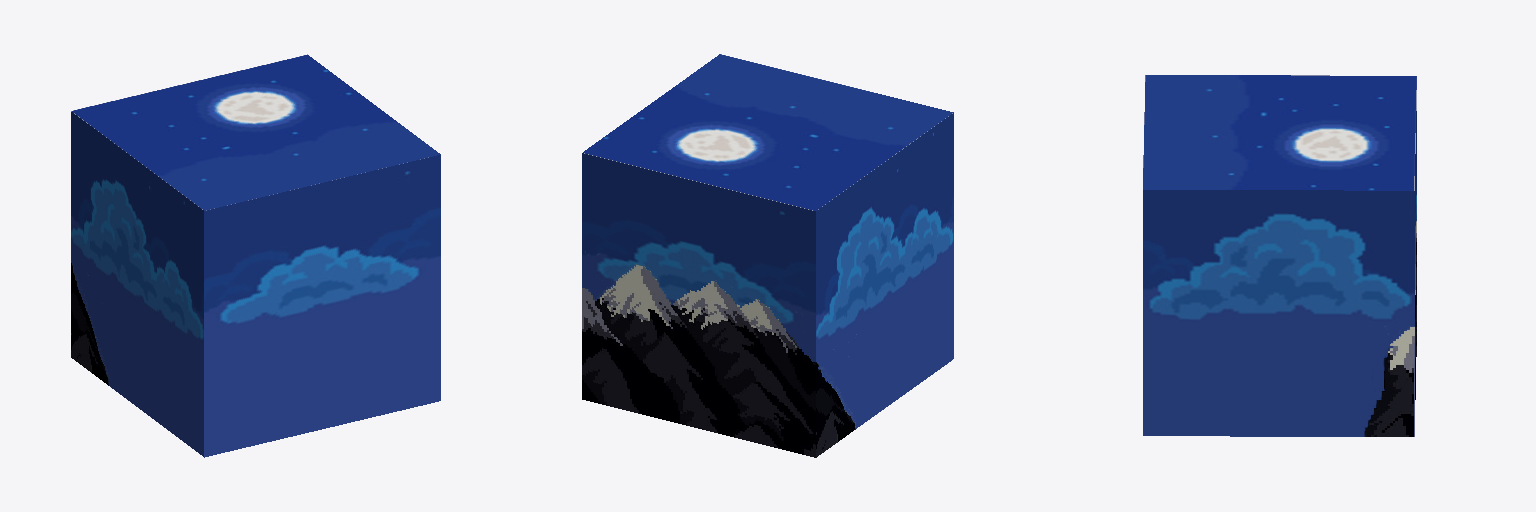
3 renders of one model, left to right at view 1: azimuth 30°, elevation 25°; view 2: azimuth 150°, elevation 25°; view 3: azimuth 270°, elevation 25°, orthographic.
Parts seen in each view (by area): view 1: skybox7:pCube1; view 2: skybox7:pCube1; view 3: skybox7:pCube1.
Boxes of the visible parts, x1=… form: skybox7:pCube1: x1=71, y1=54, x2=440, y2=457; skybox7:pCube1: x1=582, y1=54, x2=953, y2=457; skybox7:pCube1: x1=1143, y1=75, x2=1416, y2=436.
Bounding box in the file's own units: 19.17 × 18.98 × 19.17.
6 materials, 6 textured.